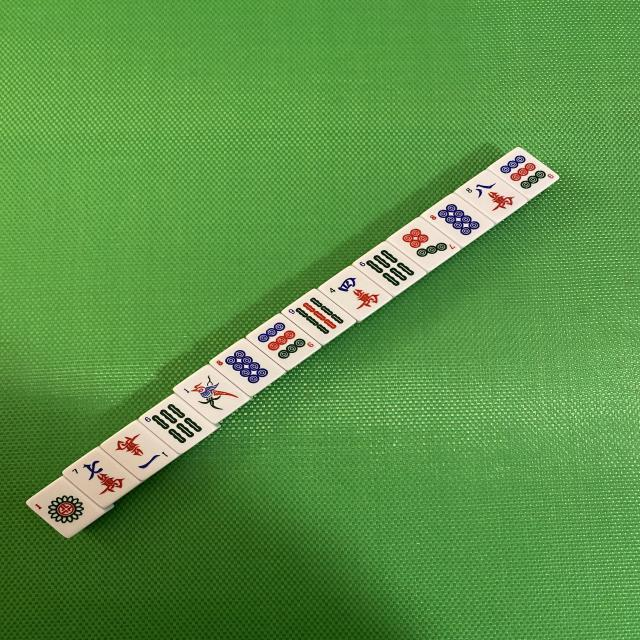sb1: (174, 362, 248, 426)
sb6: (139, 392, 213, 456), (354, 241, 425, 300)
sb9: (283, 286, 354, 346)
sc1: (103, 431, 171, 472)
sc4: (320, 264, 390, 324)
sc7: (64, 446, 140, 510)
sc8: (456, 167, 528, 224)
sd1: (24, 472, 100, 542)
sd7: (387, 216, 461, 274)
sd8: (210, 336, 284, 399), (421, 191, 492, 250)
sd9: (248, 313, 320, 372), (488, 147, 561, 203)
